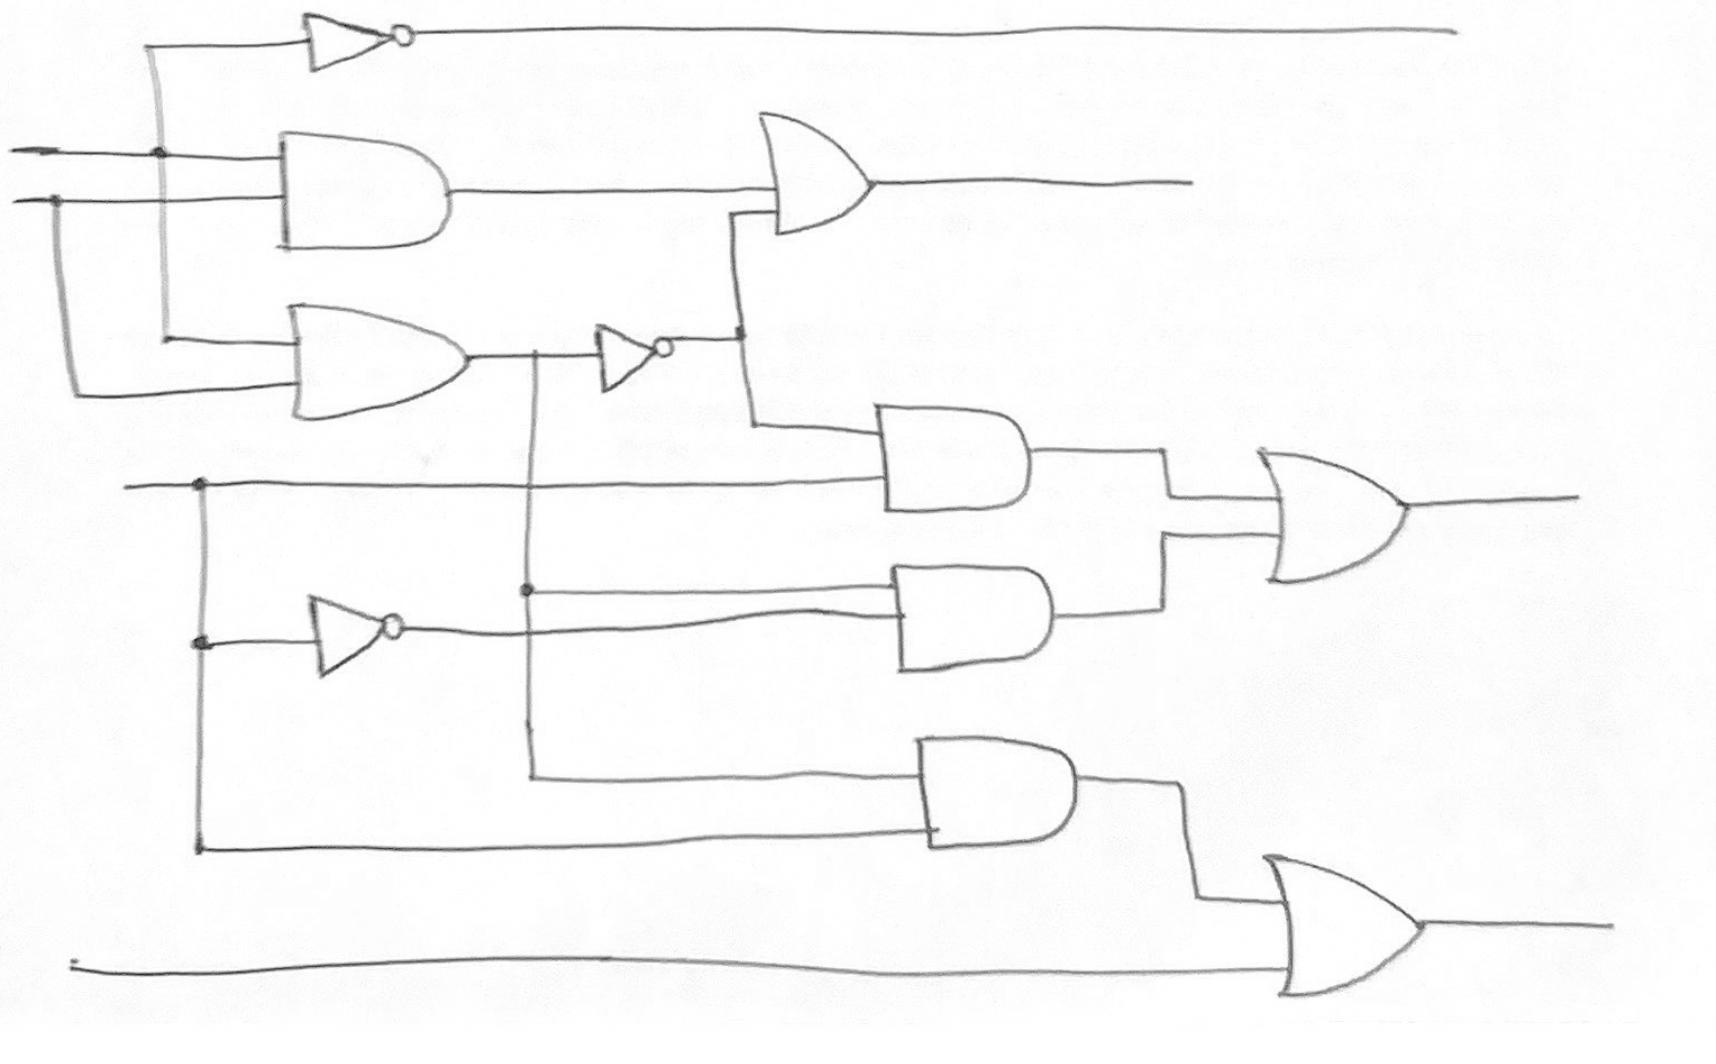AND: (264, 118, 472, 273), (887, 716, 1097, 863), (852, 396, 1050, 532), (870, 550, 1063, 683)
NOT: (302, 574, 422, 688), (292, 4, 429, 81), (576, 314, 688, 407)
OR: (1247, 827, 1439, 1014), (1256, 420, 1441, 613), (270, 292, 488, 444), (734, 92, 919, 251)
